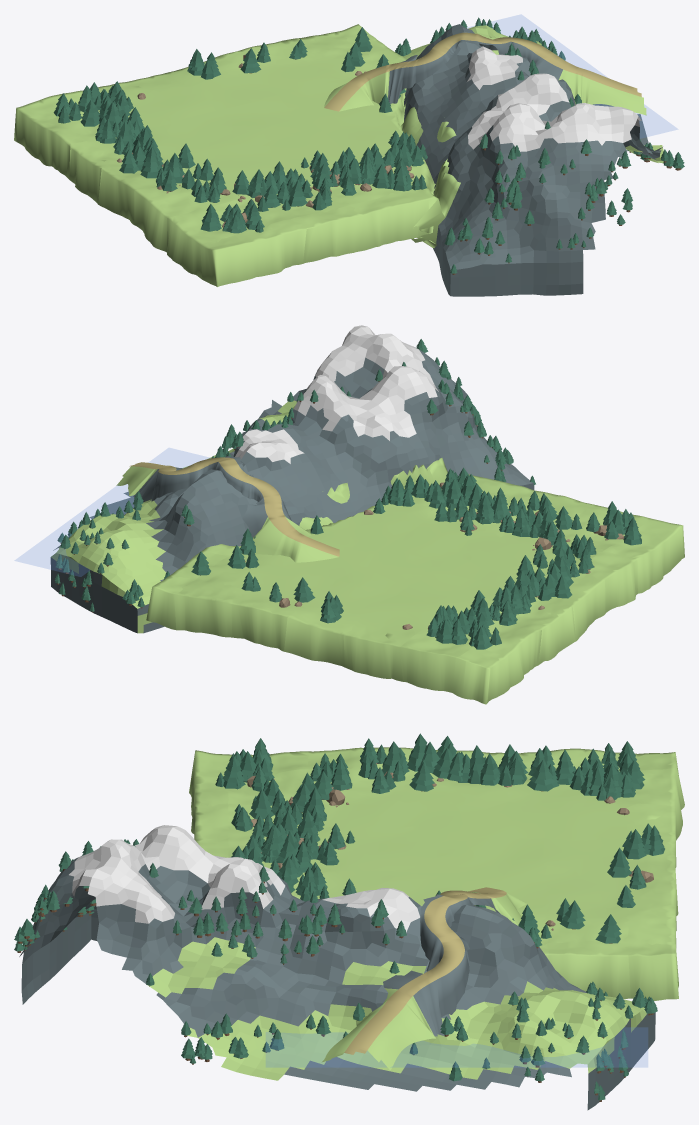
Rendered from level.glb.
The picture shows the model from 3 angles, top to bottom: view 1: azimuth 30°, elevation 25°; view 2: azimuth 150°, elevation 25°; view 3: azimuth 270°, elevation 25°; orthographic projection. The views are drawn at different scales.
Visible parts, largest first — view 1: BACKDROP, CHUNK_-021_-002, CHUNK_-023_-003, CHUNK_-021_-003, CHUNK_-024_+000, CHUNK_-022_-003, CHUNK_-024_-002, CHUNK_-024_-001, CHUNK_-024_+002, CHUNK_-024_+001, CHUNK_-022_-002, CHUNK_-020_+002 (+32 smaller); view 2: BACKDROP, CHUNK_-023_+003, CHUNK_-021_+003, CHUNK_-019_+003, CHUNK_-022_+003, CHUNK_-020_+003, CHUNK_-024_+000, CHUNK_-024_+003, CHUNK_-024_+001, CHUNK_-021_-001, CHUNK_-022_-001, CHUNK_-024_-002 (+30 smaller); view 3: BACKDROP, CHUNK_-023_+000, CHUNK_-018_+002, CHUNK_-023_+001, CHUNK_-023_+002, CHUNK_-023_-001, CHUNK_-020_+002, CHUNK_-022_+002, CHUNK_-021_+000, CHUNK_-021_-001, CHUNK_-022_+001, CHUNK_-018_+003 (+37 smaller).
Boxes of the visible parts, x1,y1,x2,y2 form: BACKDROP: [324, 14, 677, 296]; CHUNK_-021_-002: [313, 144, 404, 205]; CHUNK_-023_-003: [234, 219, 306, 279]; CHUNK_-021_-003: [348, 193, 418, 251]; CHUNK_-024_+000: [98, 145, 165, 224]; CHUNK_-022_-003: [291, 205, 361, 263]; CHUNK_-024_-002: [167, 204, 233, 279]; CHUNK_-024_-001: [134, 169, 200, 252]; CHUNK_-024_+002: [35, 93, 99, 179]; CHUNK_-024_+001: [69, 116, 125, 203]; CHUNK_-022_-002: [259, 164, 348, 218]; CHUNK_-020_+002: [238, 39, 341, 95]; BACKDROP: [15, 325, 534, 633]; CHUNK_-023_+003: [399, 618, 474, 692]; CHUNK_-021_+003: [284, 591, 359, 667]; CHUNK_-019_+003: [174, 572, 251, 637]; CHUNK_-022_+003: [343, 618, 415, 681]; CHUNK_-020_+003: [231, 582, 308, 651]; CHUNK_-024_+000: [538, 556, 605, 640]; CHUNK_-024_+003: [452, 626, 509, 704]; CHUNK_-024_+001: [507, 596, 576, 664]; CHUNK_-021_-001: [414, 495, 494, 551]; CHUNK_-022_-001: [460, 508, 547, 565]; CHUNK_-024_-002: [605, 518, 669, 593]; BACKDROP: [19, 825, 655, 1110]; CHUNK_-023_+000: [382, 741, 471, 810]; CHUNK_-018_+002: [547, 914, 632, 998]; CHUNK_-023_+001: [460, 744, 554, 809]; CHUNK_-023_+002: [540, 745, 635, 809]; CHUNK_-023_-001: [306, 753, 393, 807]; CHUNK_-020_+002: [543, 847, 632, 912]; CHUNK_-022_+002: [541, 800, 636, 841]; CHUNK_-021_+000: [371, 836, 474, 872]; CHUNK_-021_-001: [304, 810, 402, 874]; CHUNK_-022_+001: [459, 802, 558, 842]; CHUNK_-018_+003: [625, 943, 678, 1014].
Bounding box in the file's own units: 320 × 92.24 × 302.
